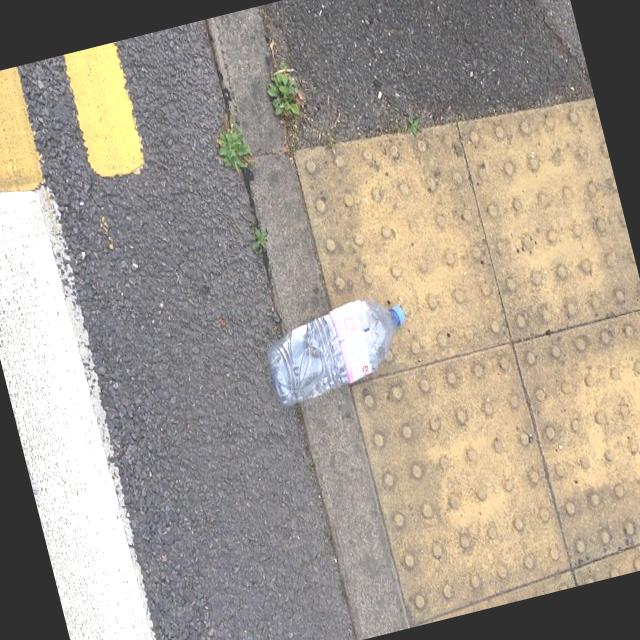Recycle: (257, 287, 418, 405)
